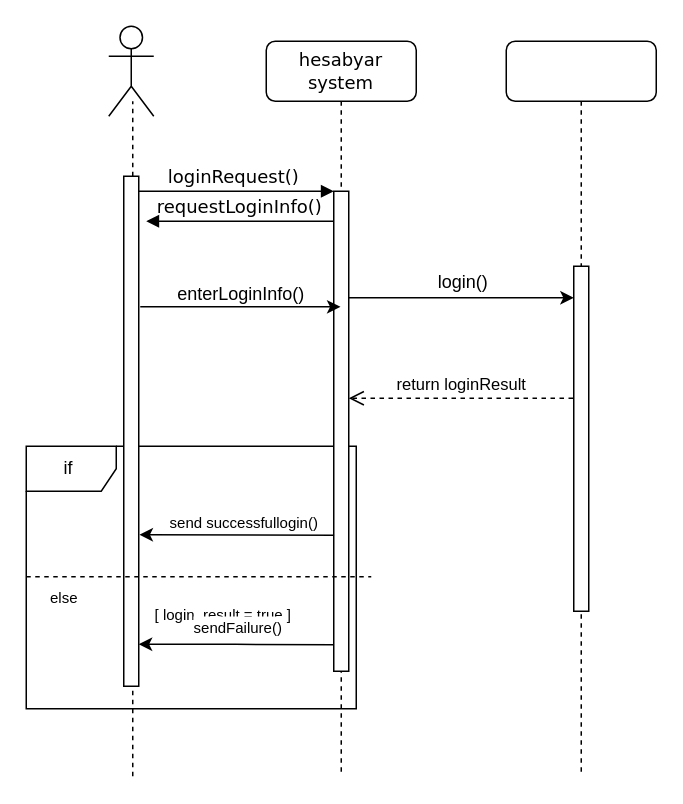
Image size: 683x804. Some labels were removed from this diagram. Here are the shapes that lost their labels. From the top down, the box of each, then its label:
(107, 25, 154, 116): user
(505, 40, 656, 776): user:User
